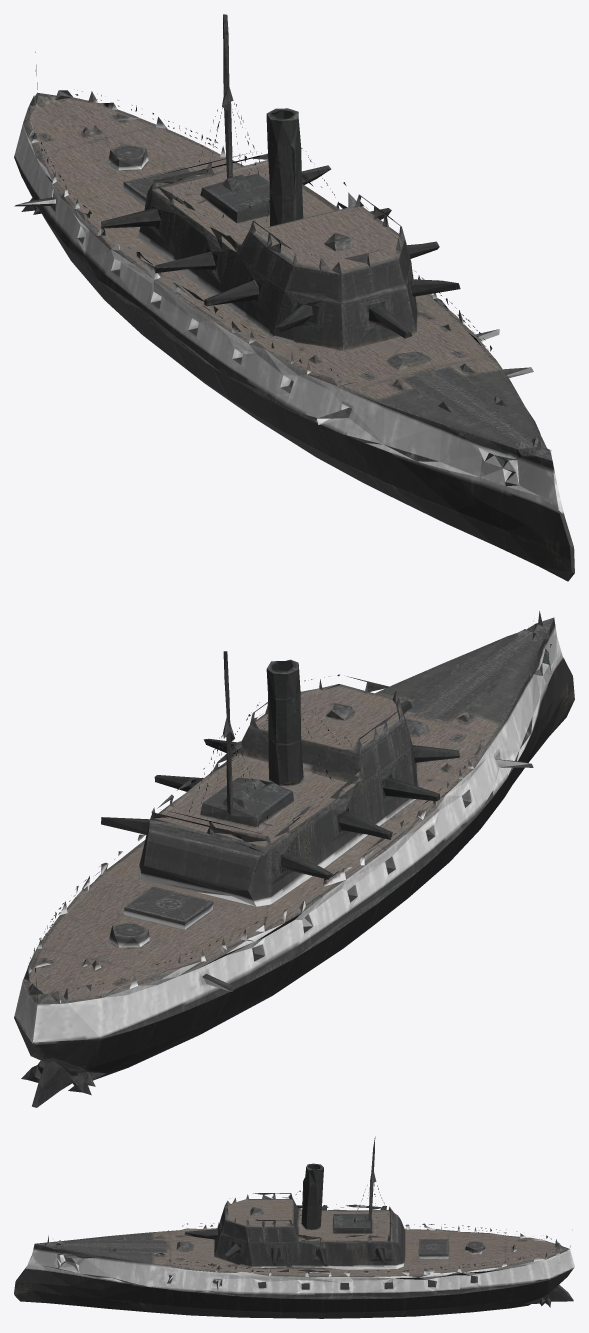
File: realistic-cc0.95bf4458adc9.ironclad.glb
3 renders of one model, top to bottom at view 1: azimuth 30°, elevation 25°; view 2: azimuth 150°, elevation 25°; view 3: azimuth 270°, elevation 25°, orthographic. The views are drawn at different scales.
Parts seen in each view (by area): view 1: ironclad; view 2: ironclad; view 3: ironclad.
Part boxes in pixels (x1,y1,x2,y2): ironclad: (14,14,574,581); ironclad: (14,611,574,1107); ironclad: (14,1136,574,1318).
Size of the model in its own units: 15.44 by 19.47 by 60.
2 materials, 2 textured.
